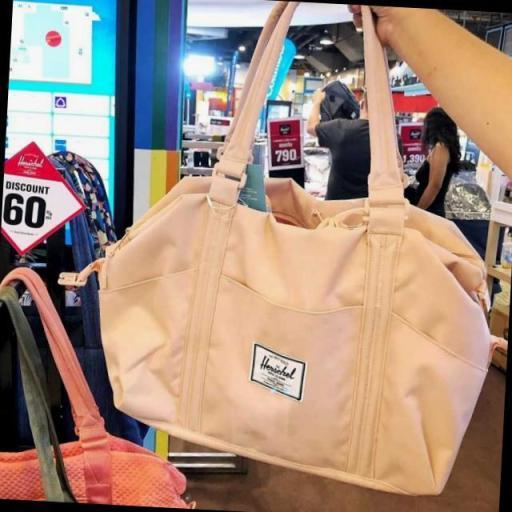bag: (98, 3, 506, 508)
